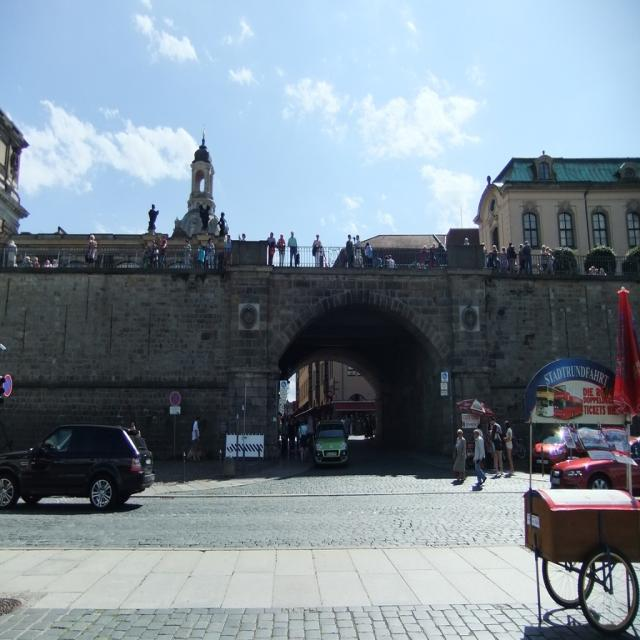car: (311, 419, 348, 468)
